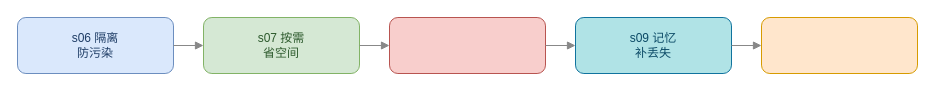
Some shapes in this 935 by 91 pixel diagram are drawn without their labels. Here are the shapes that lost their labels. From the top down, the centre of each, then its label:
At pixel 467 45: "s08 压缩 防溢出".
At pixel 839 45: "s10 组装 保动态".
